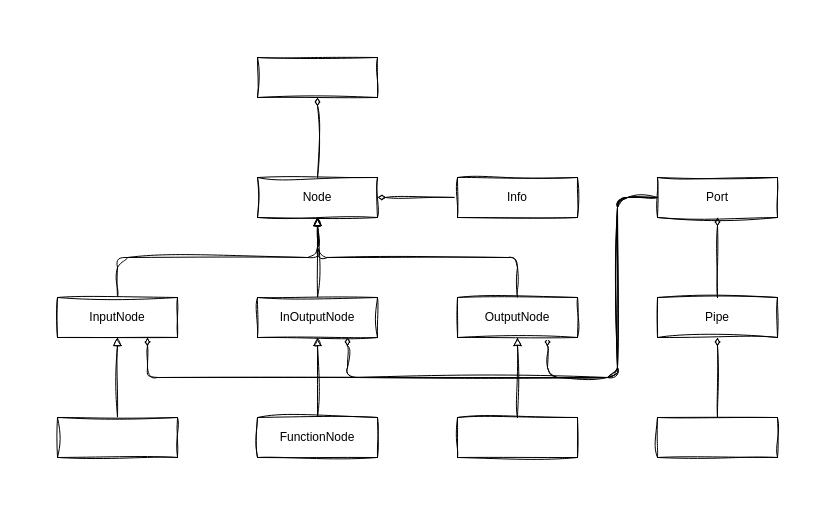
Image size: 834x514. Some labels were removed from this diagram. The shapes that lost their labels are listed below. From the top down, each one's centre as x and y in pixels, then its label:
point (317, 77): Flow
point (117, 437): MQTTInNode
point (517, 437): MQTTOutNode
point (717, 437): Packet
